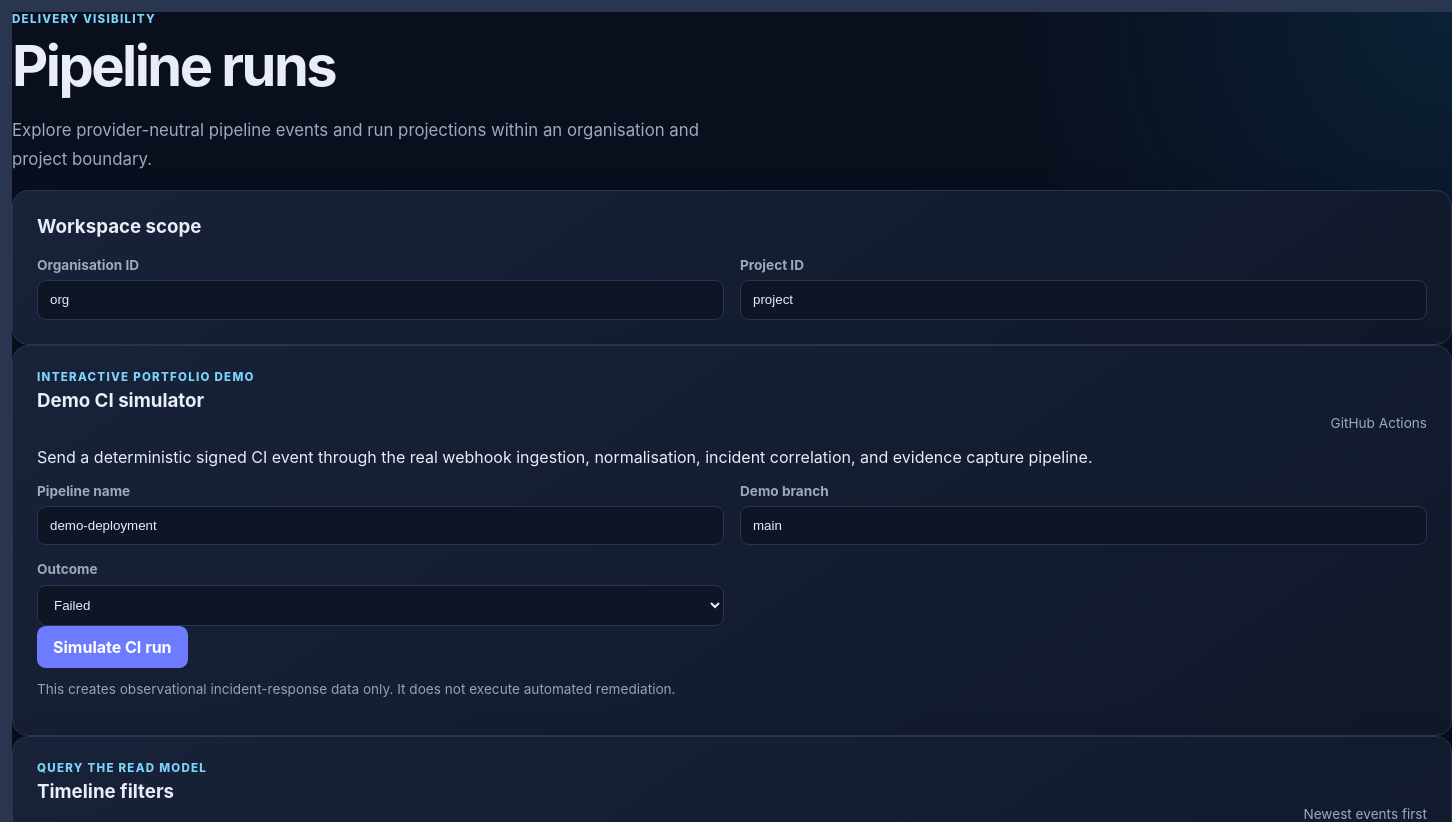
it: Pipeline browser CI simulator › simulates a CI run using the selected workspace
Replace the text in the field labelled "Pipeline name" with "release" at (380, 526), box [37,506,724,546]
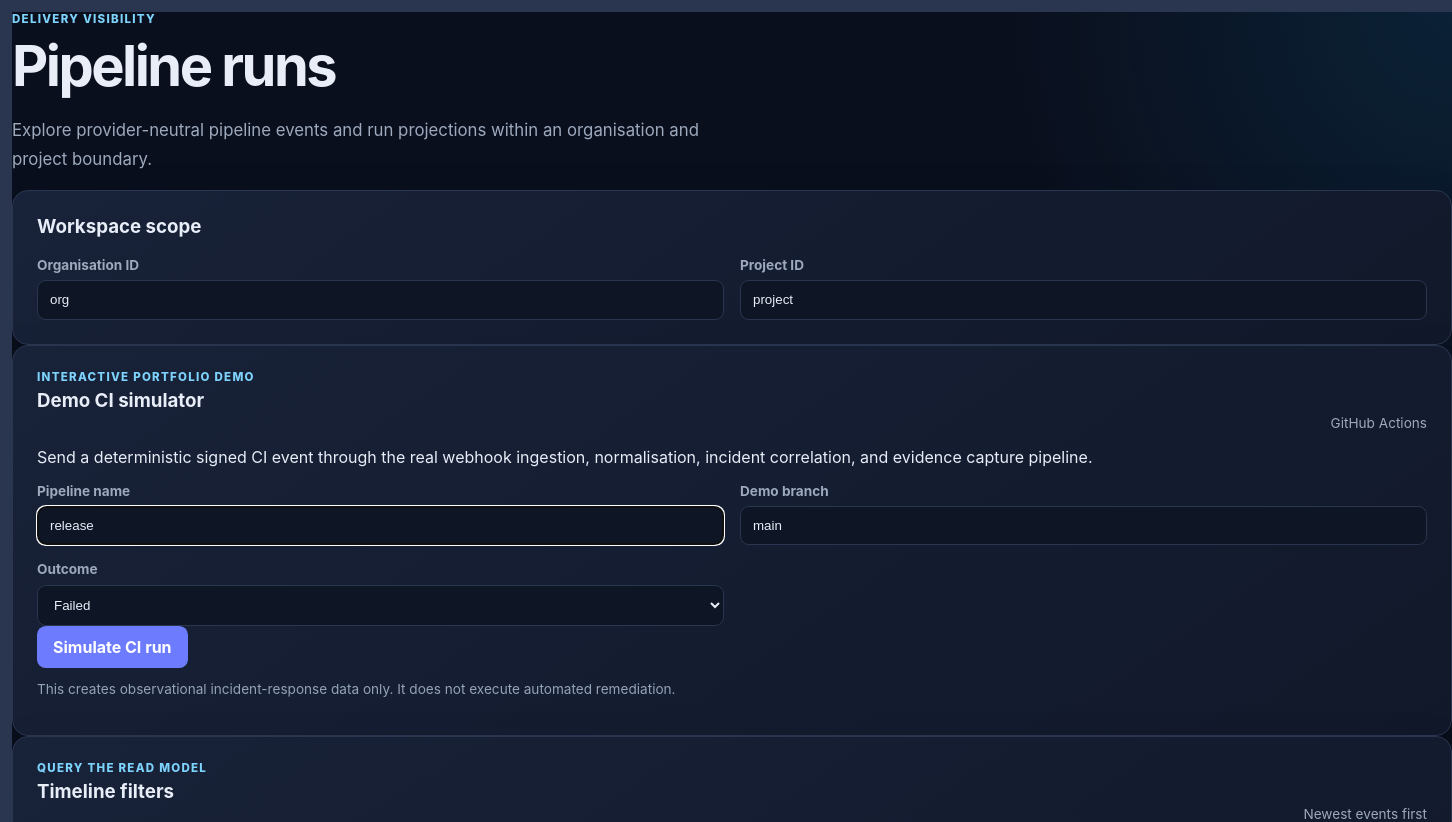
Replace the text in the field labelled "Demo branch" with "feature/demo" at (1084, 526), box [740,506,1427,546]
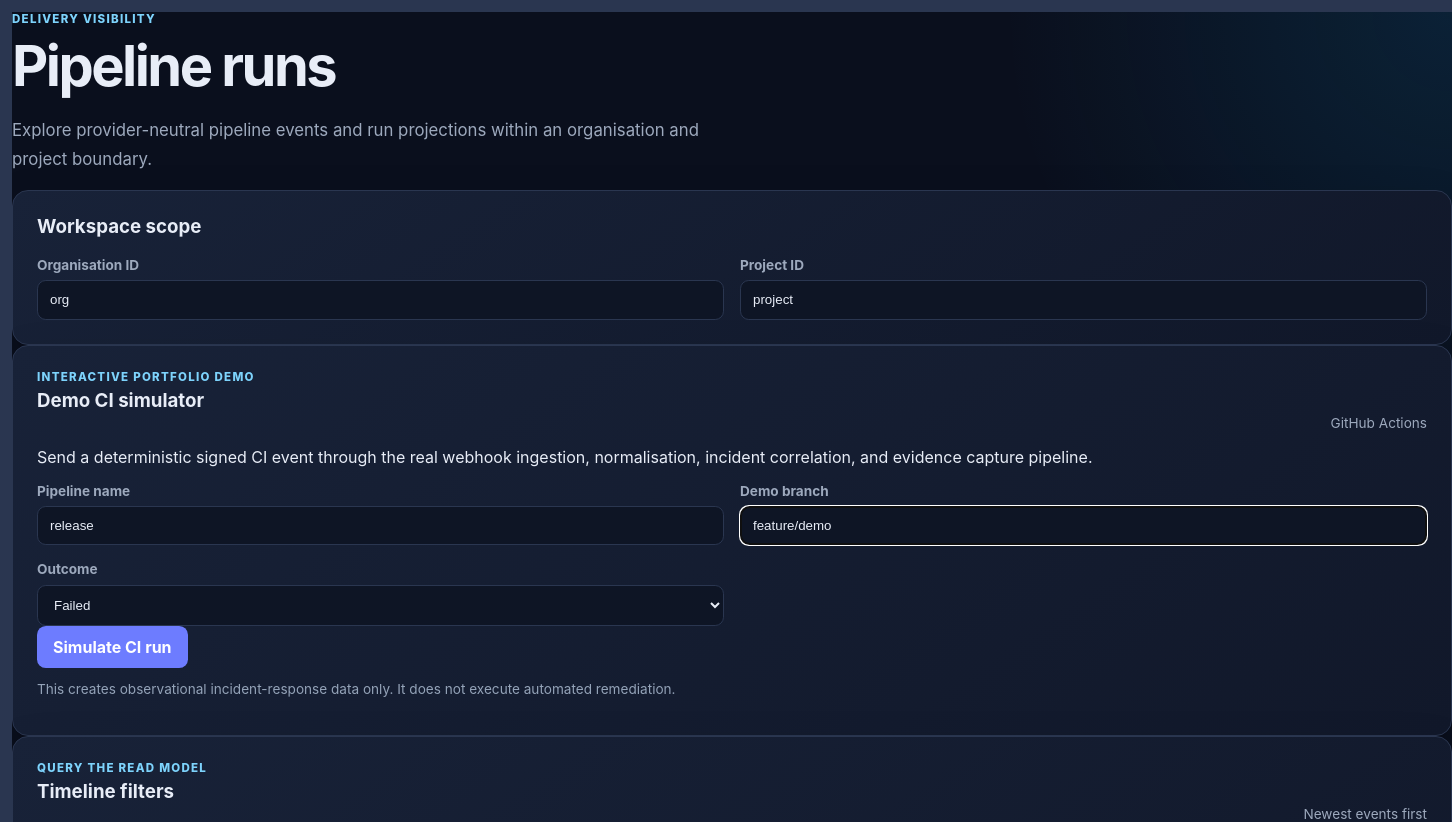
Select "Succeeded" in the dropdown labelled "Outcome" at (380, 605), box [37,585,724,626]
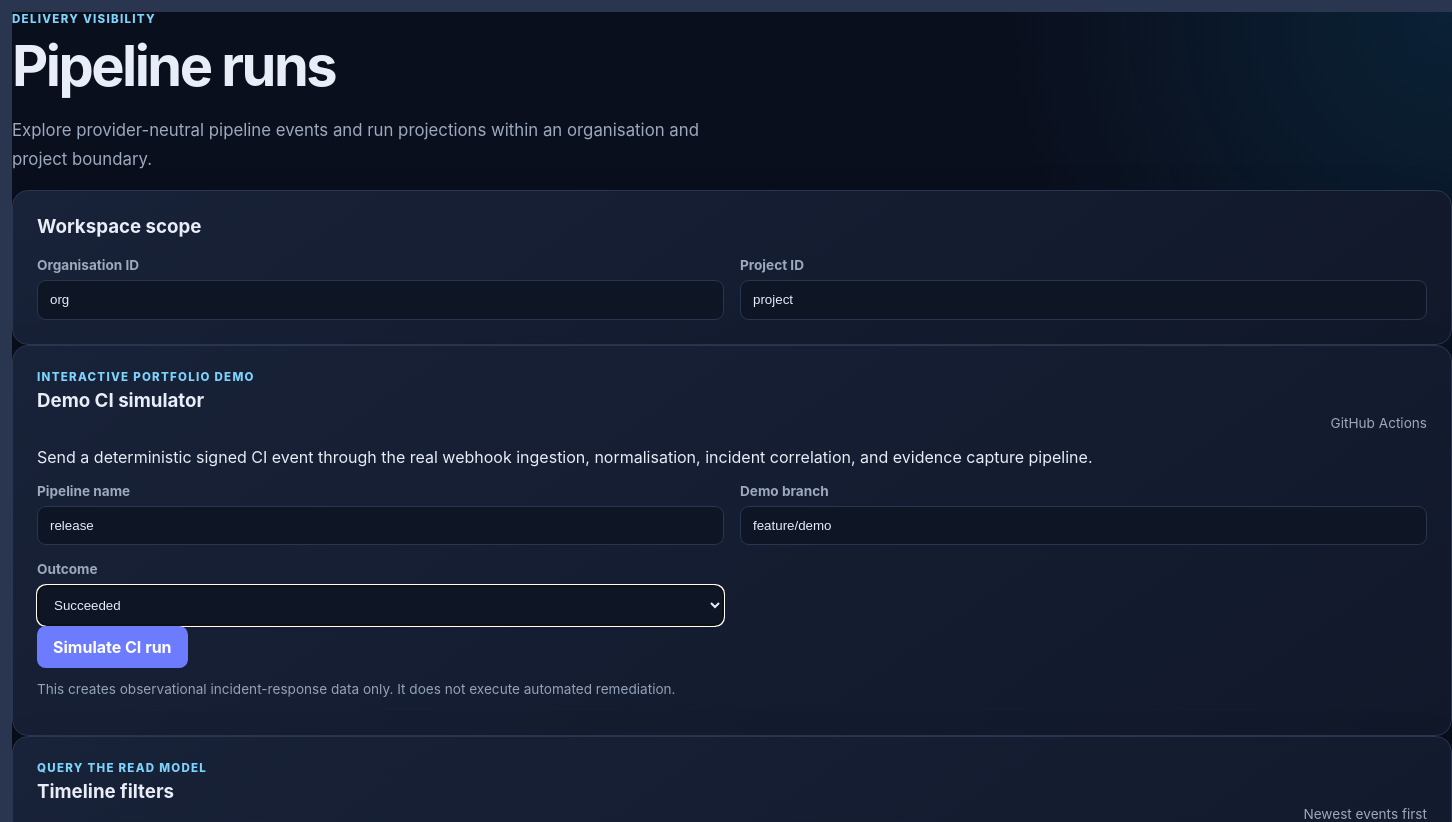
Click the button "Simulate CI run" at (112, 647), box [37,626,188,668]
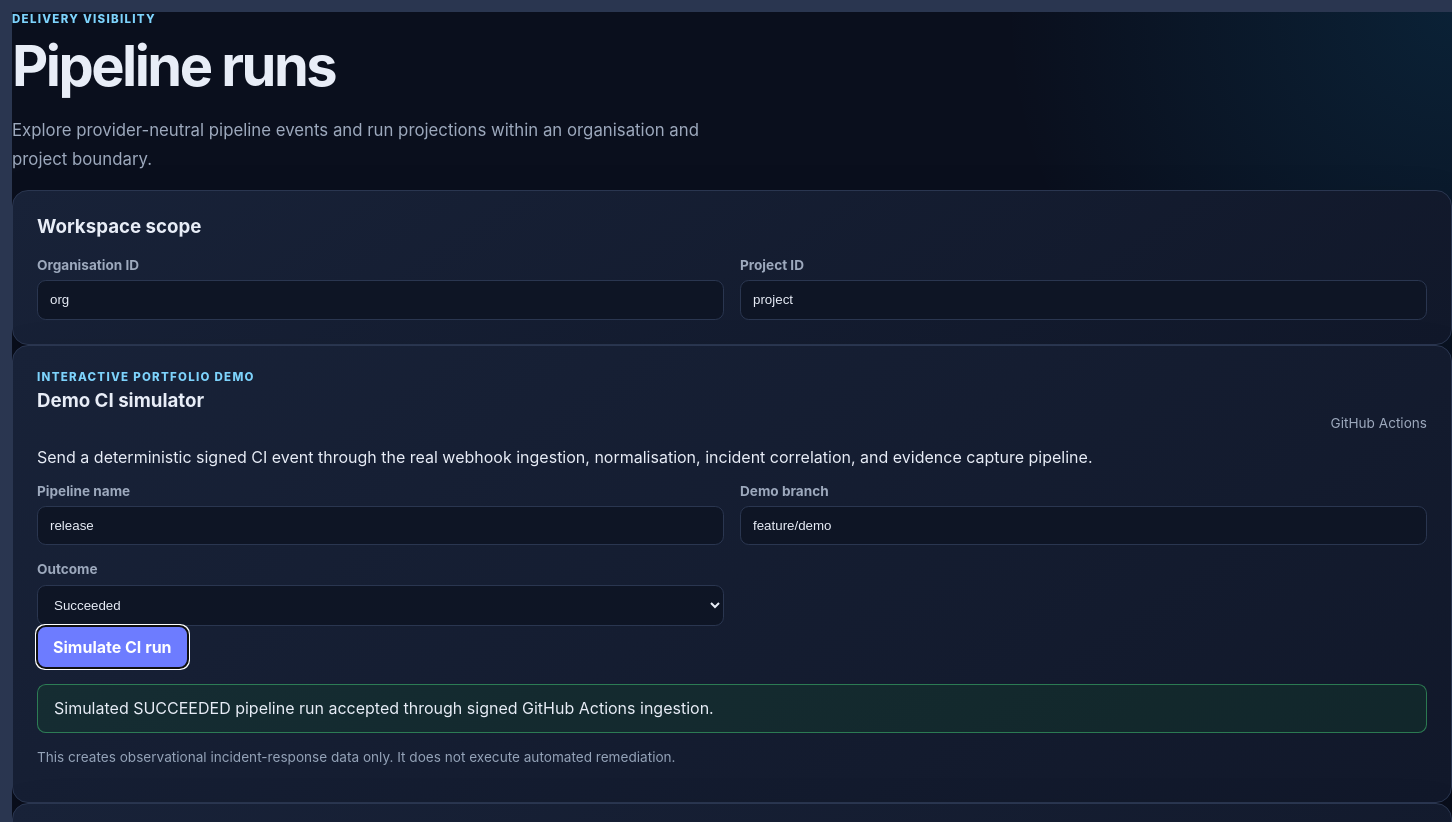
expect the message shows "Simulated SUCCEEDED pipeline run accepted": met, box [37,684,1427,733]
